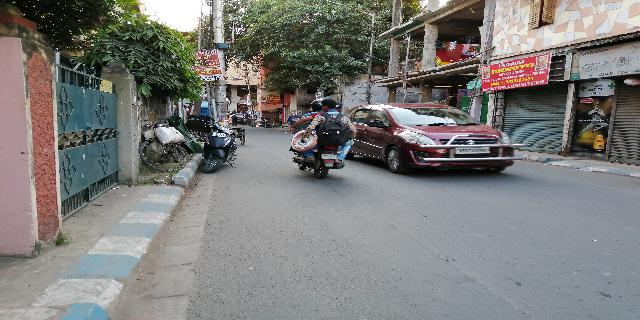Car: (347, 101, 518, 178)
Motorbike: (288, 92, 353, 186)
